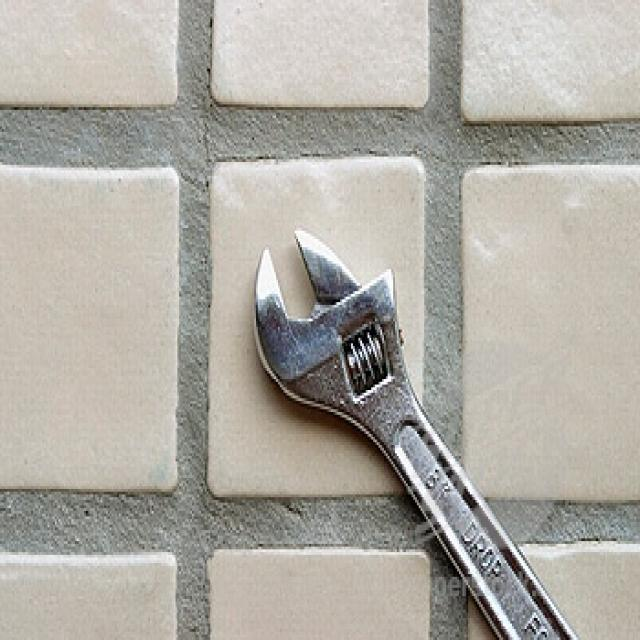wrench: (248, 219, 588, 640)
